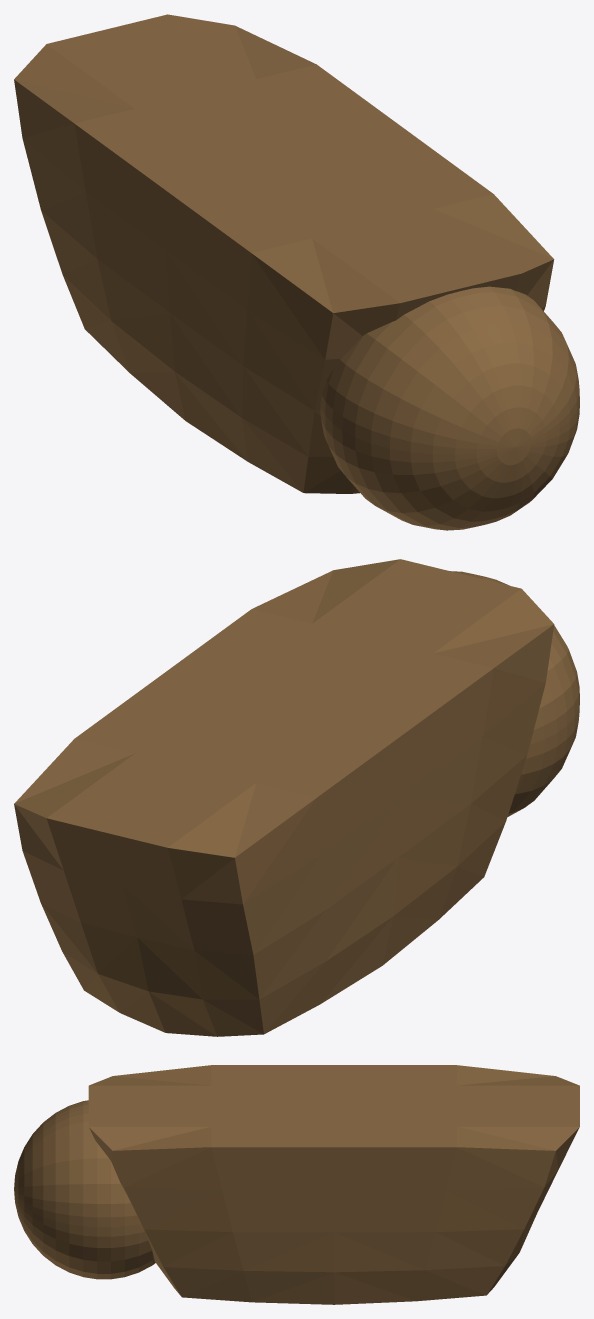
Rendered from LeftFingerJoint51y_joint_visu.dae.
The picture shows the model from 3 angles, top to bottom: view 1: azimuth 30°, elevation 25°; view 2: azimuth 150°, elevation 25°; view 3: azimuth 270°, elevation 25°; orthographic projection. The views are drawn at different scales.
Parts seen in each view (by area): view 1: node; view 2: node; view 3: node.
Boxes of the visible parts, x1,y1,x2,y2 form: node: [14, 14, 579, 530]; node: [14, 559, 579, 1036]; node: [14, 1065, 579, 1304].
Size of the model in its own units: 0.00871 by 0.00867 by 0.0254.
